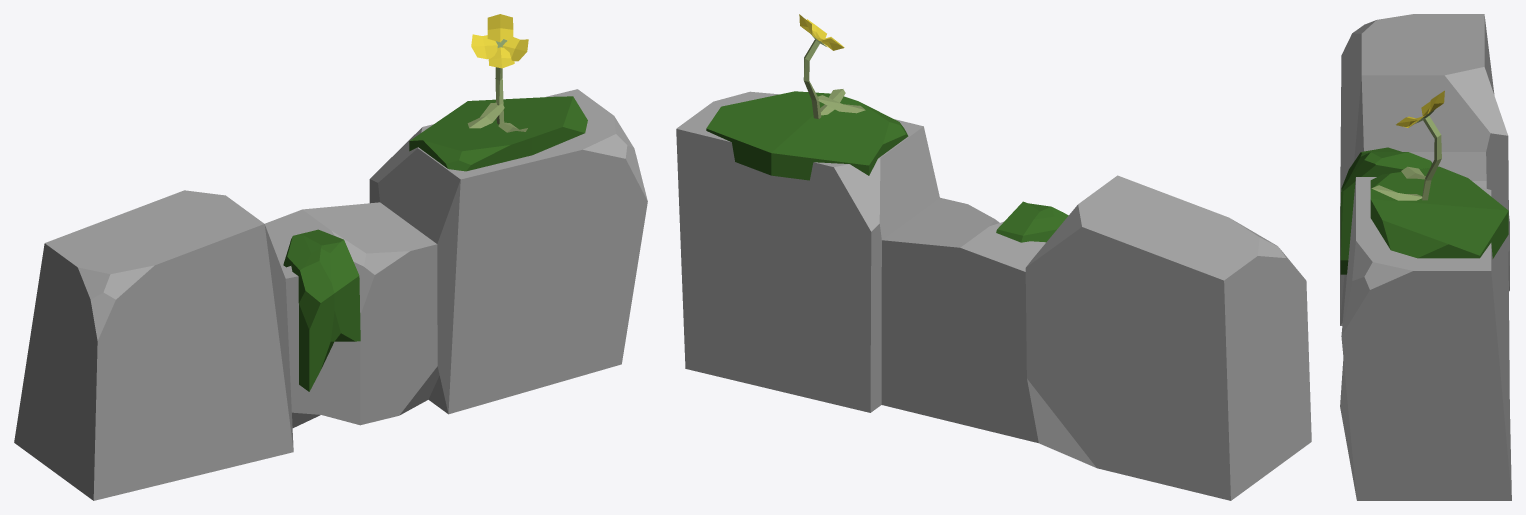
File: WallLvl3.fbx
3 renders of one model, left to right at view 1: azimuth 30°, elevation 25°; view 2: azimuth 150°, elevation 25°; view 3: azimuth 270°, elevation 25°, orthographic. The views are drawn at different scales.
Parts seen in each view (by area): view 1: Cube, Cube.001; view 2: Cube, Cube.001; view 3: Cube, Cube.001.
Boxes of the visible parts, left/top/right/bottom form: Cube: left=14, top=89, right=647, bottom=500; Cube.001: left=467, top=14, right=528, bottom=132; Cube: left=676, top=91, right=1311, bottom=500; Cube.001: left=799, top=14, right=865, bottom=119; Cube: left=1340, top=14, right=1511, bottom=500; Cube.001: left=1371, top=90, right=1444, bottom=200.
Size of the model in its own units: 298 by 175 by 74.88.
